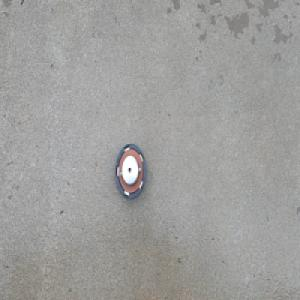FuelCap: (114, 141, 147, 200)
